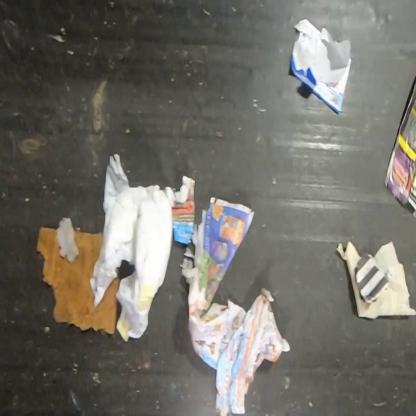cardboard: (36, 226, 121, 335)
